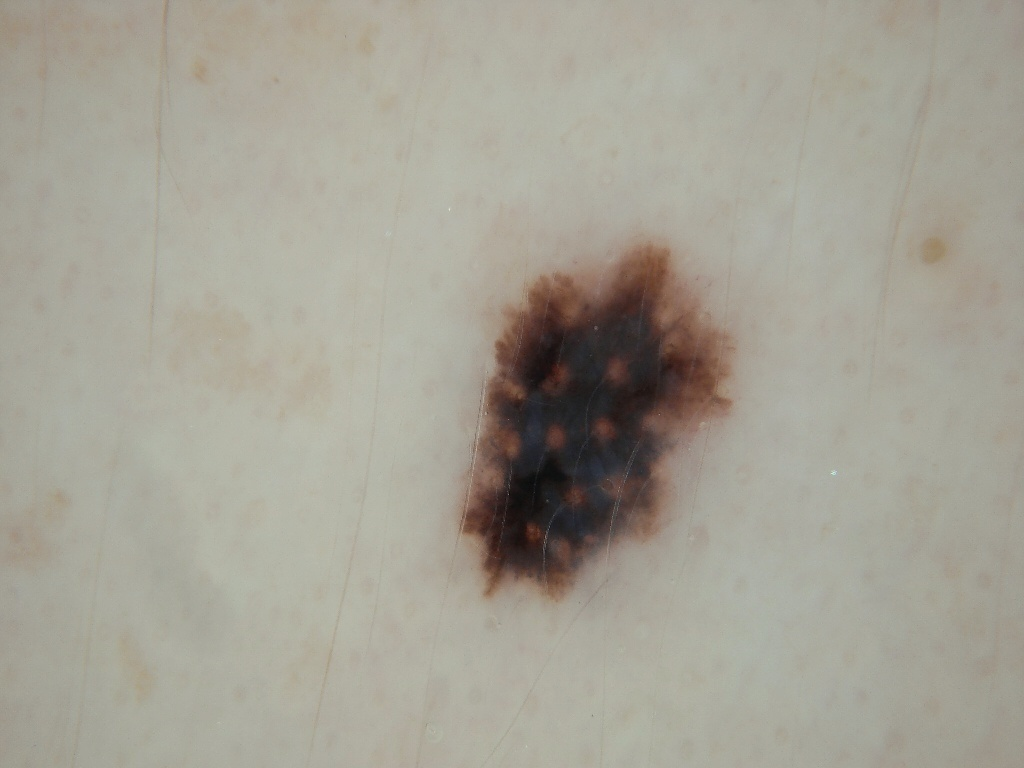Detected Lesion: (454, 239, 738, 609)
